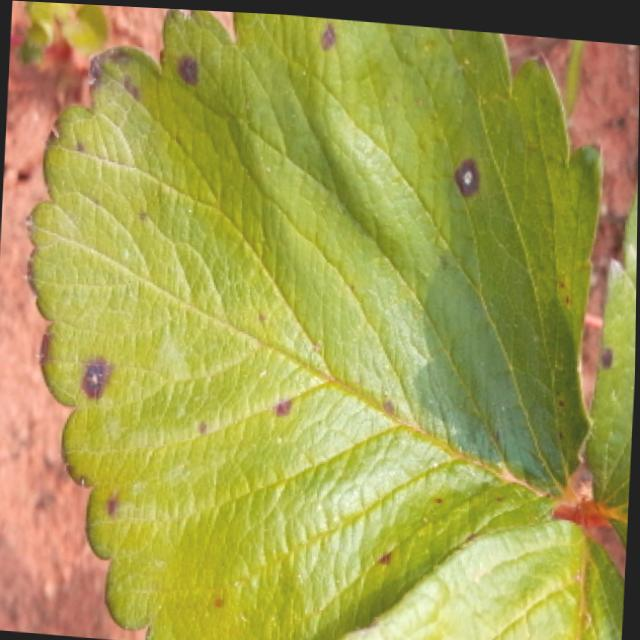Leaf Spot: (20, 7, 603, 640), (325, 509, 626, 640)
